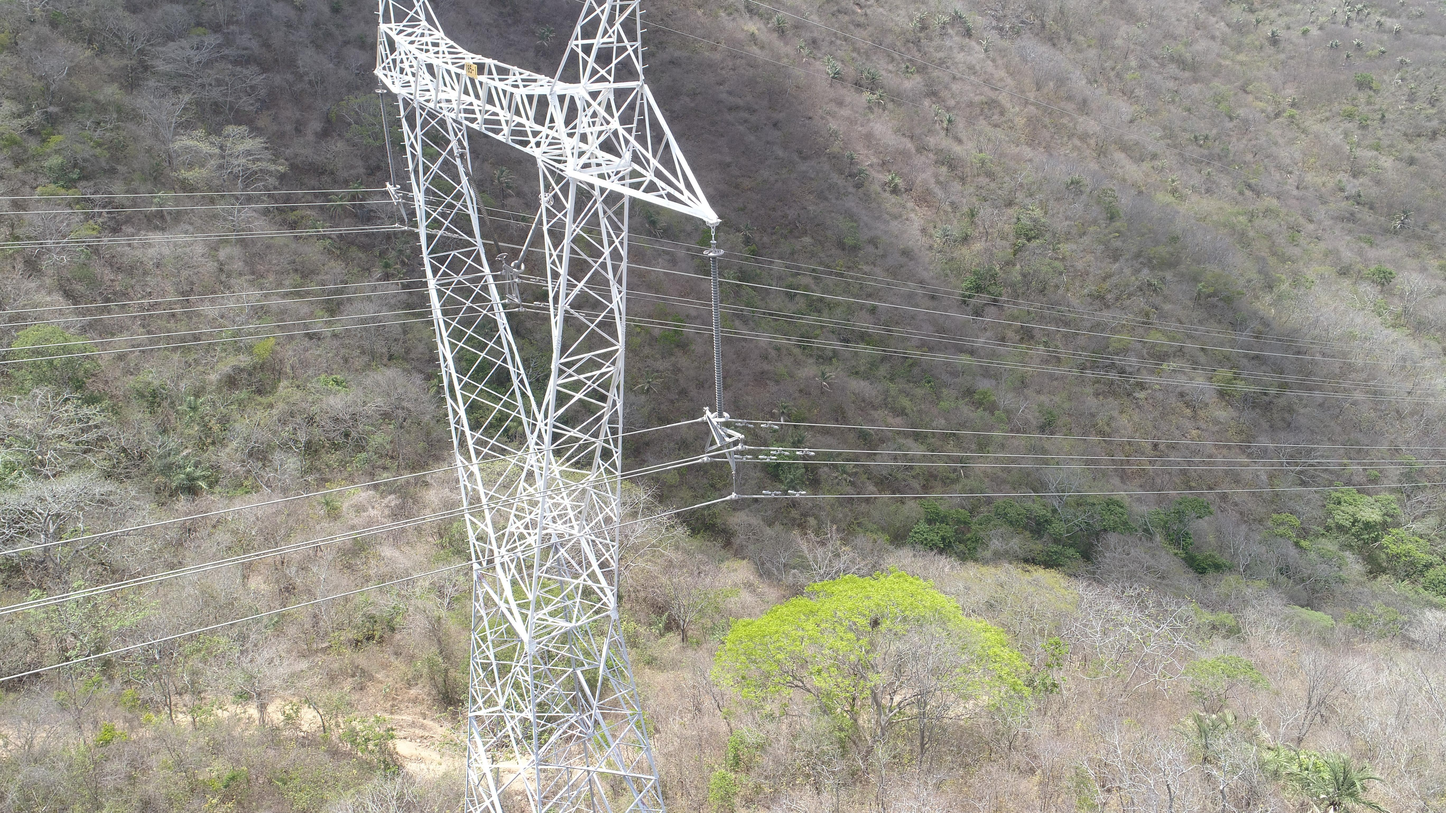power_tower: (368, 0, 750, 813)
